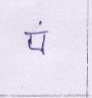anusvara: (38, 21, 43, 26)
